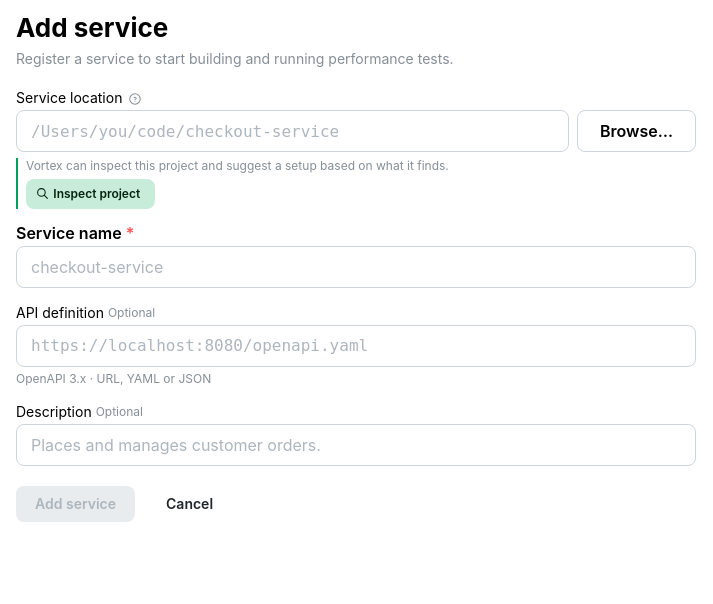
Test: the new-service page › checks a repository path once it is typed, and shows what it found
The image size is (713, 604).
In the field labelled "Service location": [292, 131] box [16,110,569,152], type "/Users/me/code/checkout-service"
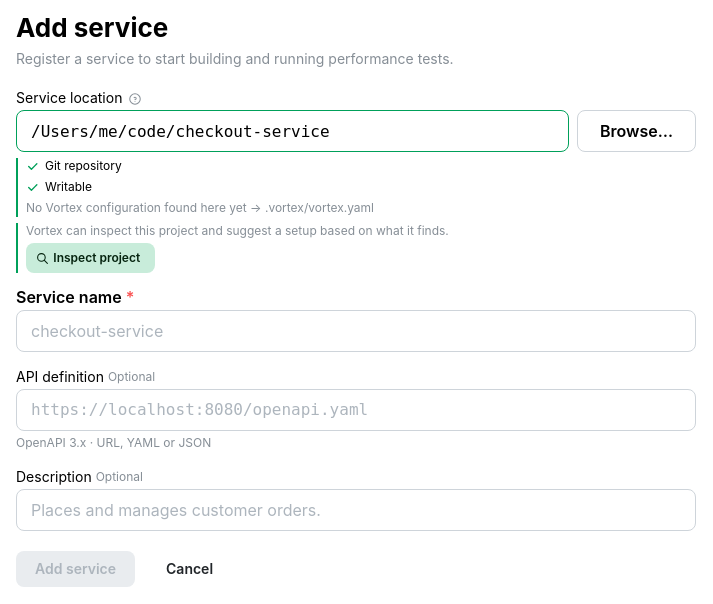
Now the text "Git repository" is shown, box [45,158,122,175]
Now the text "Writable" is shown, box [45,179,92,196]
